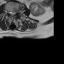CCS_stenosis: (11, 10, 13, 18)
LFS_stenosis: (15, 9, 17, 14)
LLS_normal: (13, 10, 15, 16)
RFS_normal: (6, 9, 9, 15)
RLS_stenosis: (9, 10, 11, 16)
